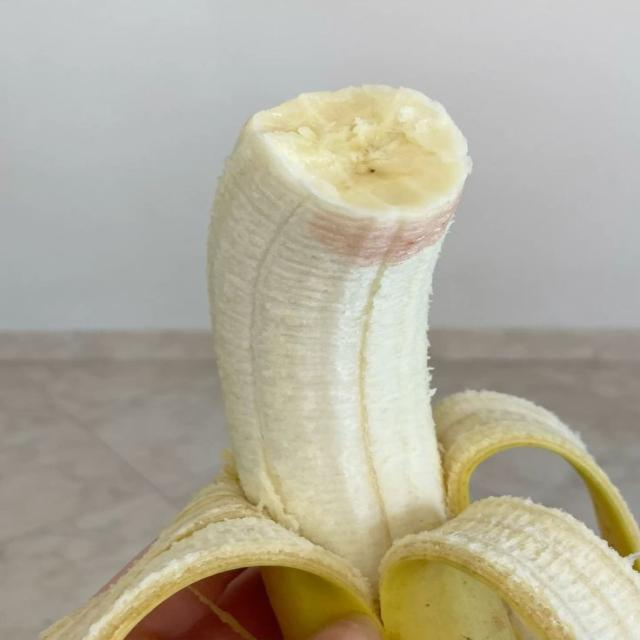banana: (44, 87, 639, 639)
